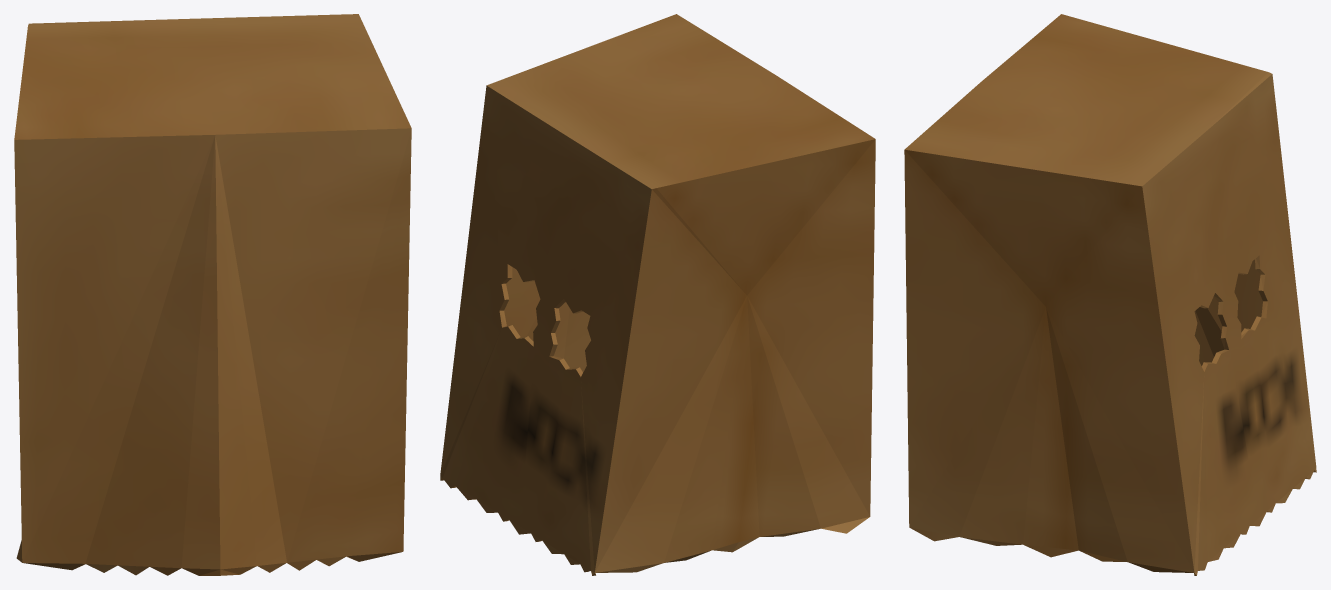
Rendered from PAPERBAG HAT.fbx.
The picture shows the model from 3 angles, left to right: view 1: azimuth 30°, elevation 25°; view 2: azimuth 150°, elevation 25°; view 3: azimuth 270°, elevation 25°; orthographic projection. The views are drawn at different scales.
Parts seen in each view (by area): view 1: PAPERBAG_HAT; view 2: PAPERBAG_HAT; view 3: PAPERBAG_HAT.
Part boxes in pixels (<box>): PAPERBAG_HAT: <box>14,14,411,575</box>; PAPERBAG_HAT: <box>440,14,875,575</box>; PAPERBAG_HAT: <box>904,14,1316,575</box>.
Bounding box in the file's own units: 38.57 × 38.9 × 37.24.
